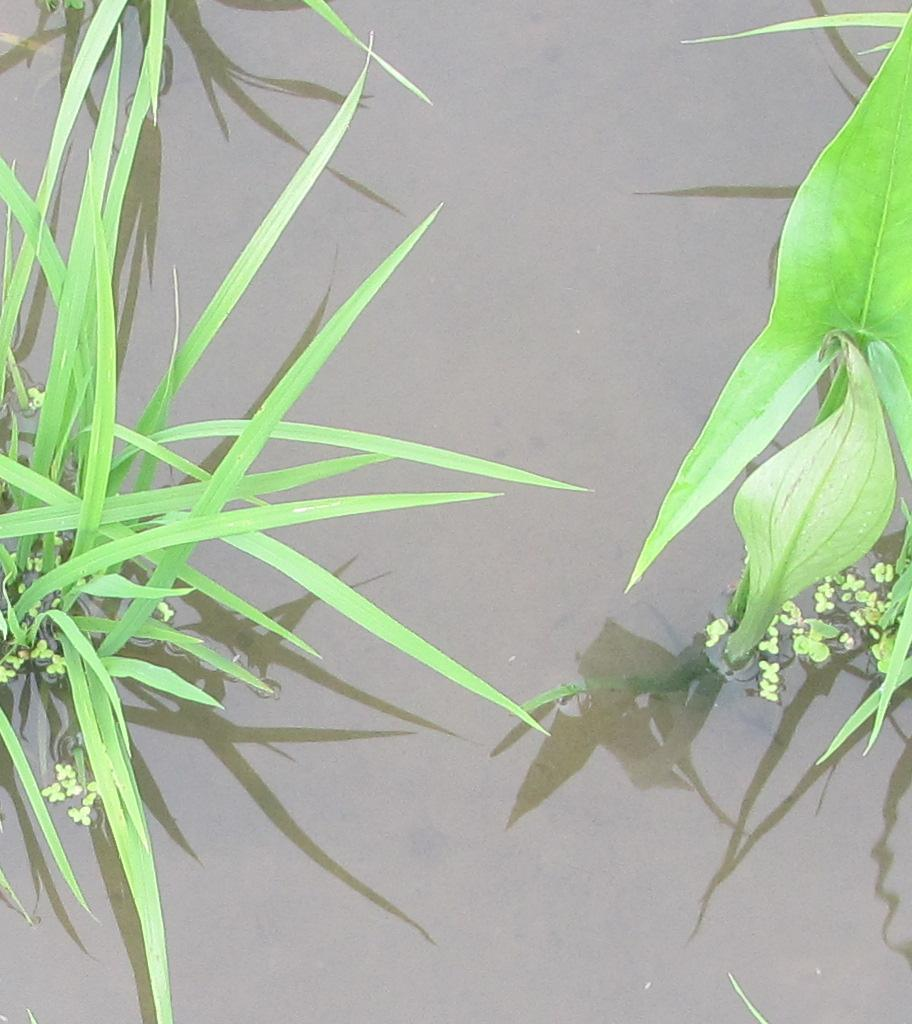Weed: (767, 52, 909, 411), (740, 424, 909, 705)
